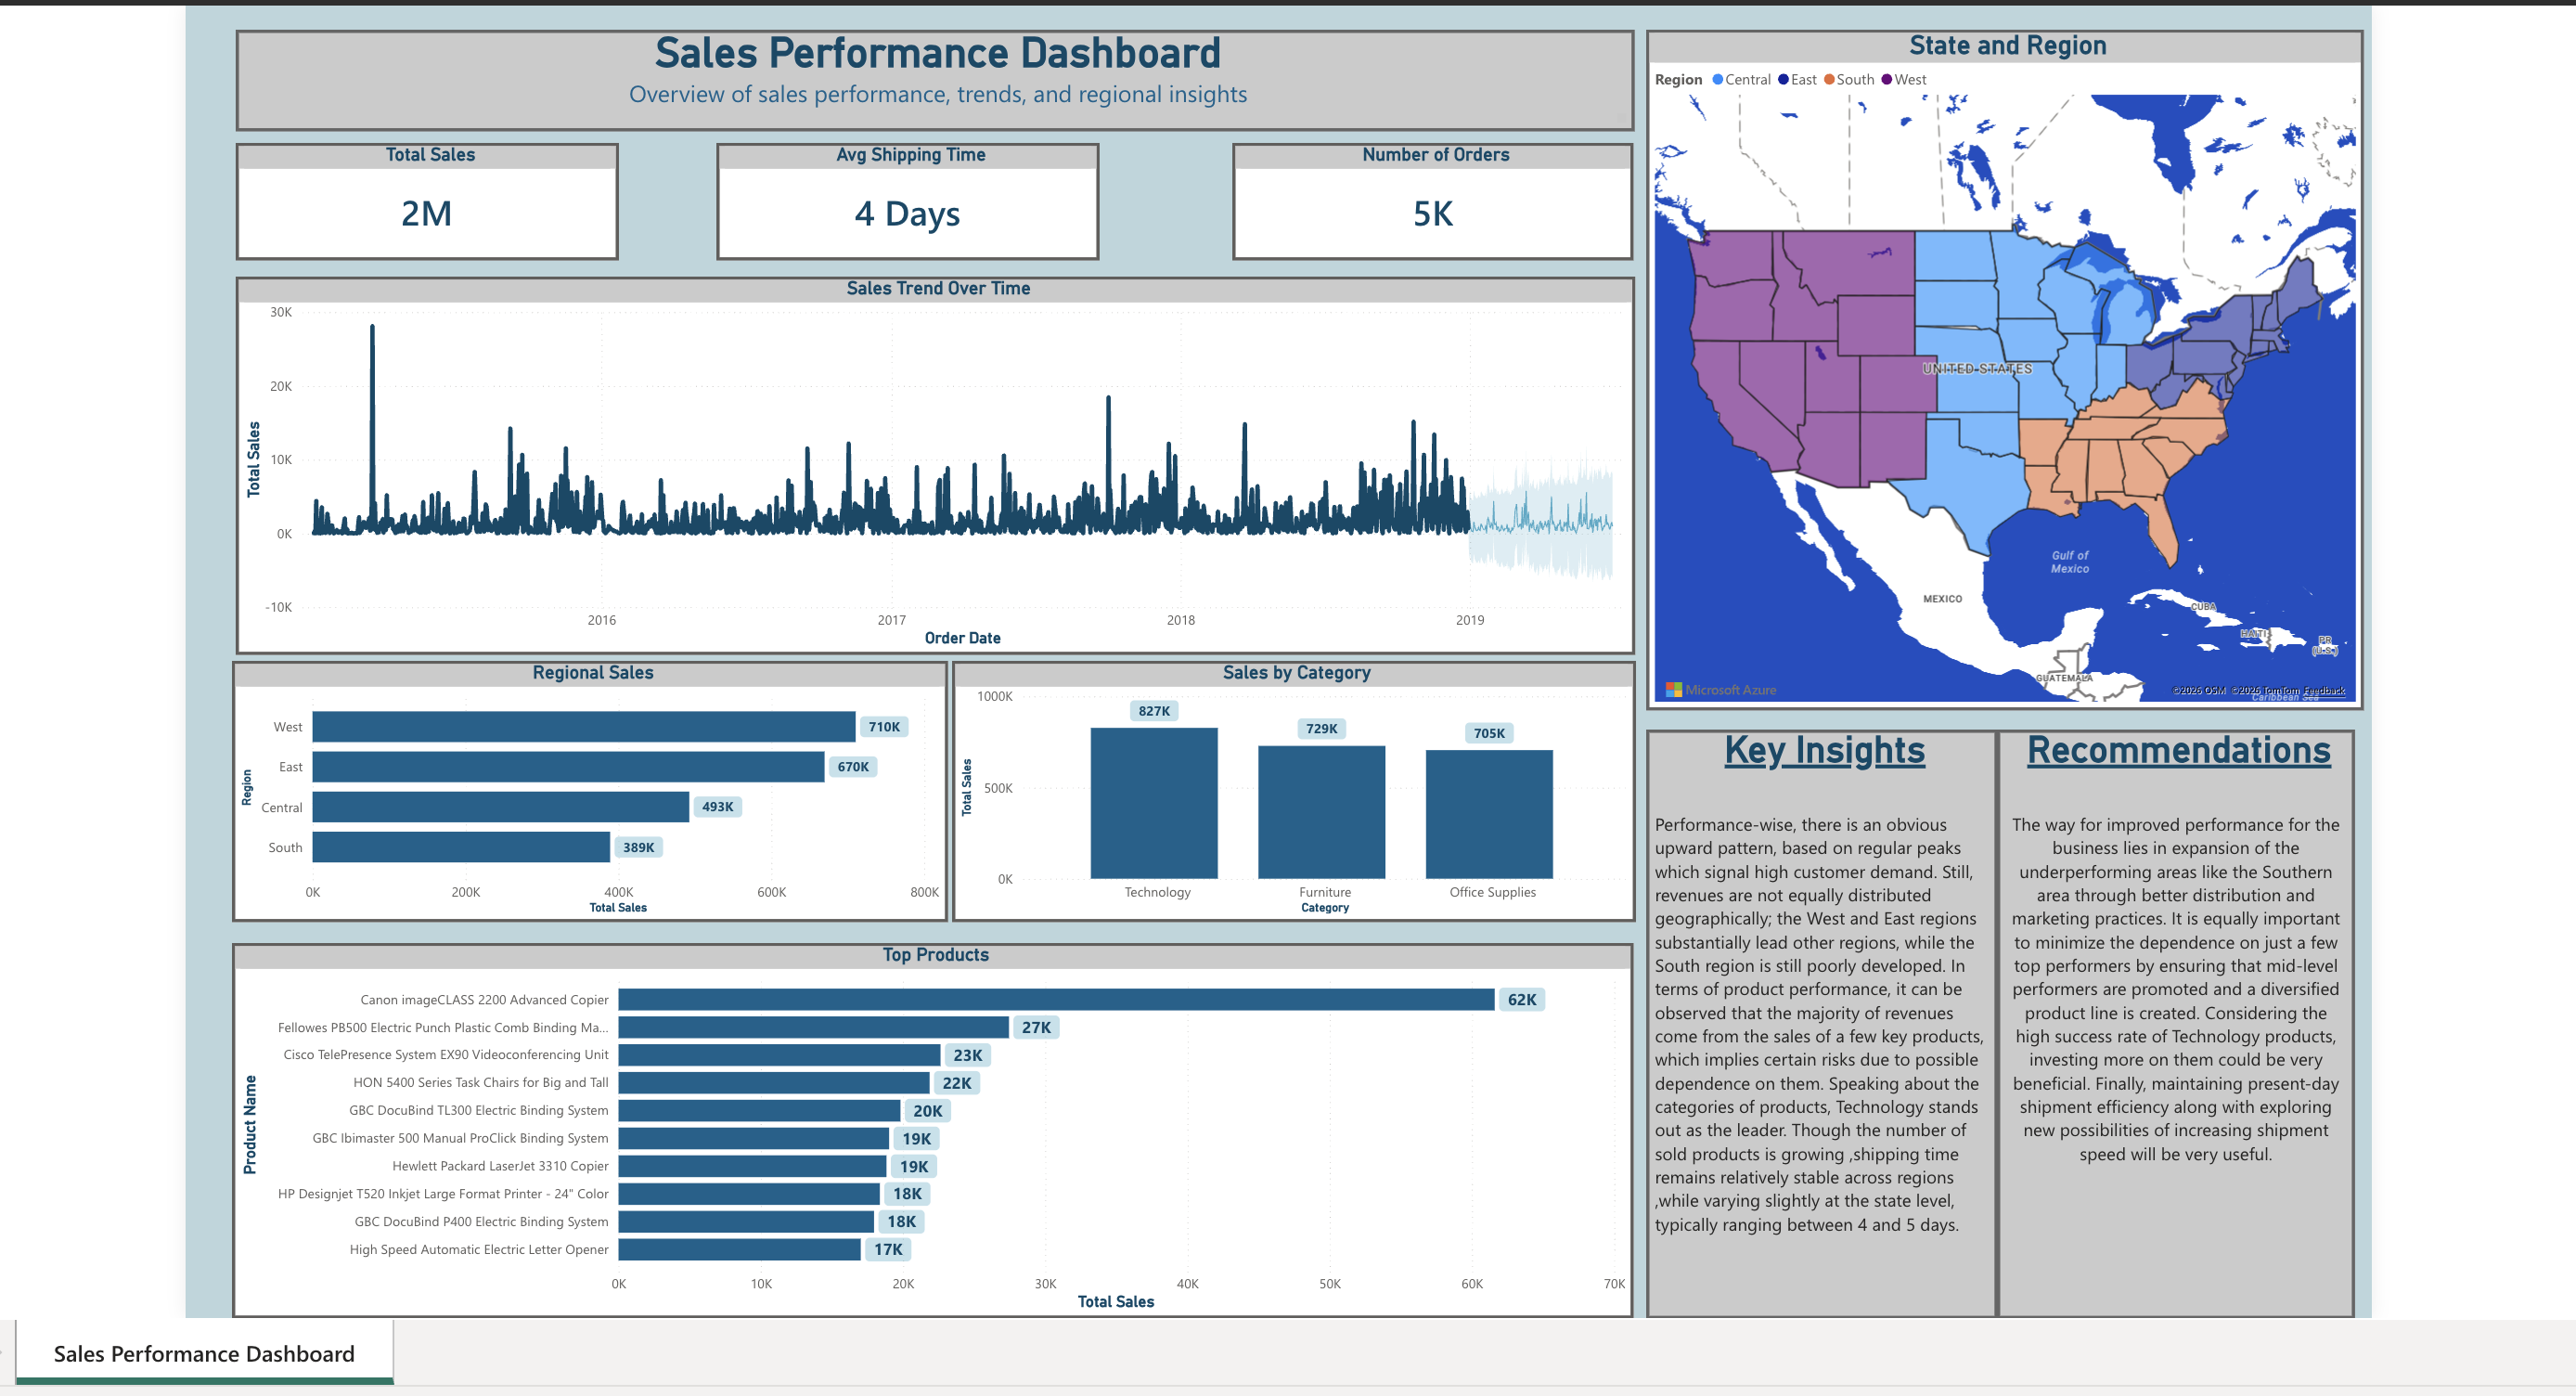

The page's visual inventory and layout, read from the dashboard file:
{"tool":"powerbi","page":{"name":"Sales Performance Dashboard","canvas":[2000,1200],"ordinal":0},"visuals":[{"type":"cardVisual","title":"Total Sales","fields":{"Data":["train.Total Sales"]},"box":[46.3,125.4,350.7,107.5],"z":0},{"type":"lineChart","title":"Sales Trend Over Time","fields":{"Y":["train.Total Sales"],"Category":["train.Order Date"]},"box":[45.6,247.3,1280.2,345.8],"z":1000},{"type":"clusteredBarChart","title":"Top Products","fields":{"Category":["train.Product Name"],"Y":["train.Total Sales"]},"box":[41.8,856.7,1282.1,343.3],"z":2000},{"type":"clusteredColumnChart","title":"Sales by Category","fields":{"Category":["train.Category"],"Y":["train.Total Sales"]},"box":[701.5,600,625.4,238.8],"z":3000},{"type":"clusteredBarChart","title":"Regional Sales","fields":{"Category":["train.Region"],"Y":["train.Total Sales"]},"box":[41.8,600,655.2,238.8],"z":4000},{"type":"cardVisual","title":"Avg Shipping Time","fields":{"Data":["train.Avg Shipping Days Text"]},"box":[485.1,125.4,350.7,107.5],"z":5000},{"type":"cardVisual","title":"Number of Orders","fields":{"Data":["train.Number of Orders"]},"box":[956.7,125.4,367.2,107.5],"z":6000},{"type":"textbox","title":"Sales Performance Dashboard","box":[45,21.7,1279.5,93.2],"z":7000},{"type":"textbox","title":"Key Insights","box":[1335.4,661.5,321.4,538.8],"z":8000},{"type":"textbox","title":"Recommendations","box":[1656.8,661.5,327.6,538.8],"z":9000},{"type":"azureMap","fields":{"Category":["train.State"],"Series":["train.Region"]},"box":[1335.8,22.4,656.7,622.4],"z":10000}]}

Visuals, with their boxes in screenshot pixels (x1, y1, x2, y2):
"Total Sales" cardVisual: left=213, top=119, right=600, bottom=238
"Sales Trend Over Time" lineChart: left=212, top=253, right=1628, bottom=636
"Top Products" clusteredBarChart: left=207, top=927, right=1625, bottom=1308
"Sales by Category" clusteredColumnChart: left=937, top=643, right=1629, bottom=908
"Regional Sales" clusteredBarChart: left=207, top=643, right=932, bottom=908
"Avg Shipping Time" cardVisual: left=698, top=119, right=1086, bottom=238
"Number of Orders" cardVisual: left=1219, top=119, right=1625, bottom=238
"Sales Performance Dashboard" textbox: left=211, top=4, right=1626, bottom=107
"Key Insights" textbox: left=1638, top=712, right=1993, bottom=1308
"Recommendations" textbox: left=1993, top=712, right=2356, bottom=1308
azureMap - train.State x train.Region: left=1639, top=5, right=2364, bottom=693
